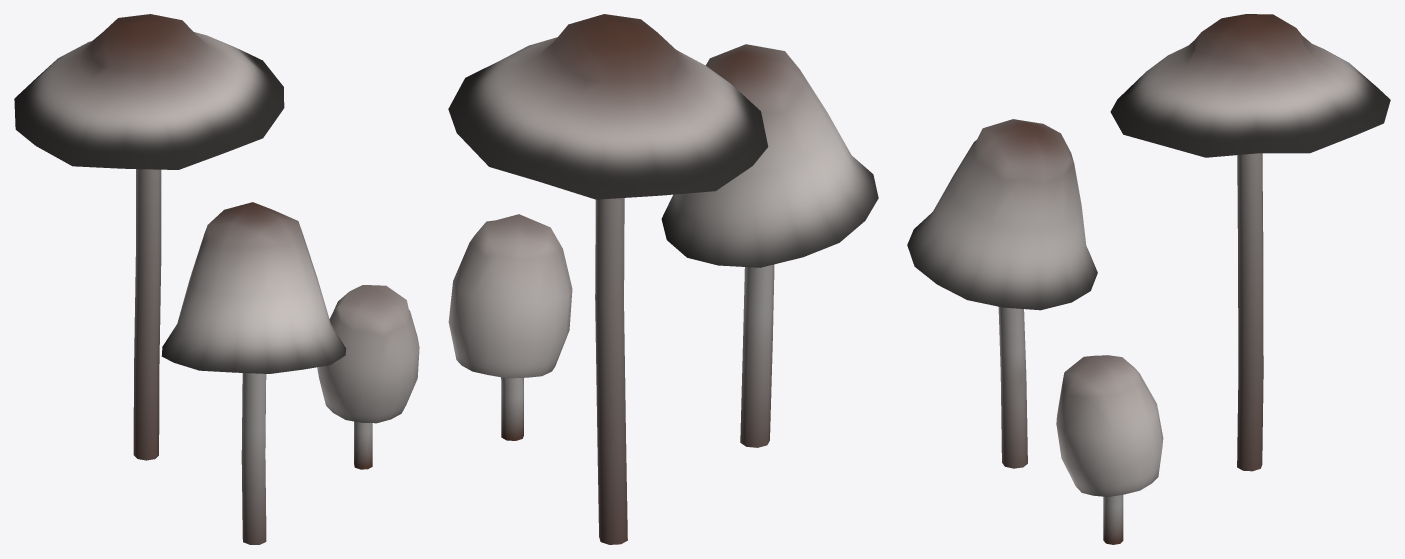
The model's file is Inky_Cap_Group_2.fbx.
3 views of the same model, side by side, from view 1: azimuth 30°, elevation 25°; view 2: azimuth 150°, elevation 25°; view 3: azimuth 270°, elevation 25° (orthographic). The views are drawn at different scales.
Visible parts, largest first — view 1: Inky_Cap_Group_2; view 2: Inky_Cap_Group_2; view 3: Inky_Cap_Group_2.
Part boxes in pixels (x1=…): Inky_Cap_Group_2: x1=14, y1=14, x2=419, y2=544; Inky_Cap_Group_2: x1=448, y1=14, x2=878, y2=544; Inky_Cap_Group_2: x1=907, y1=14, x2=1390, y2=544.
Bounding box in the file's own units: 14.96 × 19.91 × 19.47.
